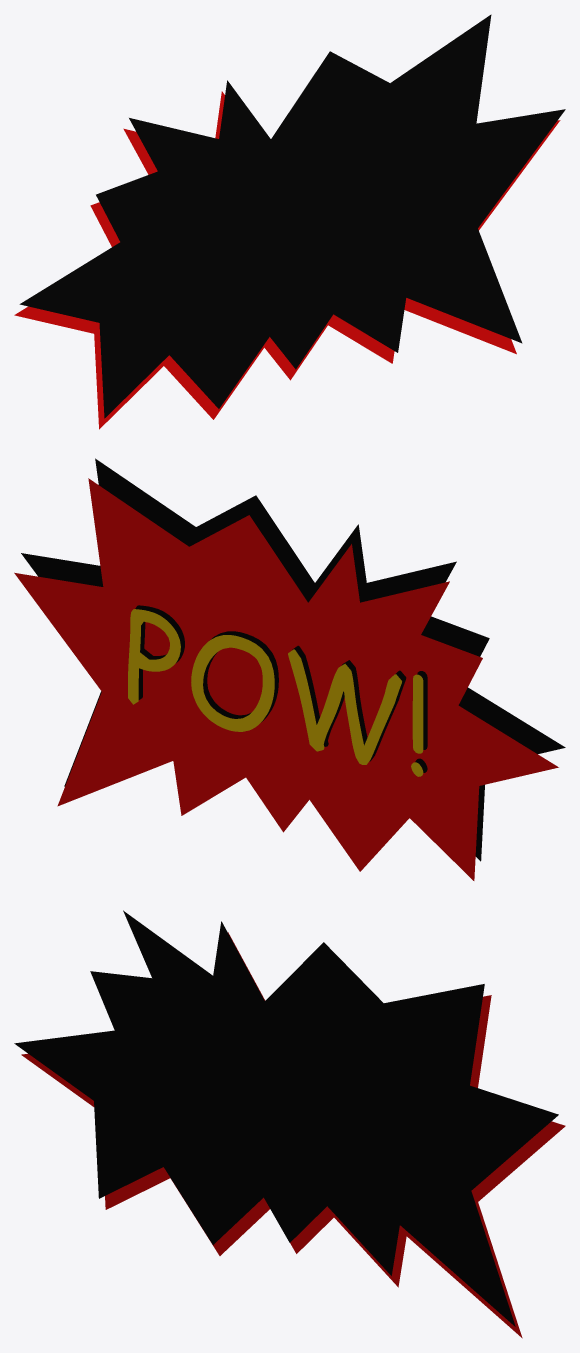
Rendered from Hit1.fbx.
The picture shows the model from 3 angles, top to bottom: view 1: azimuth 30°, elevation 25°; view 2: azimuth 150°, elevation 25°; view 3: azimuth 330°, elevation 25°; orthographic projection.
Visible parts, largest first — view 1: hit1; view 2: hit1; view 3: hit1.
Boxes of the visible parts, x1,y1,x2,y2 form: hit1: (14, 14, 565, 429); hit1: (14, 458, 565, 880); hit1: (14, 910, 565, 1338).
Size of the model in its own units: 135 by 83.86 by 4.09.
Materials: 1 (1 with a texture image).
